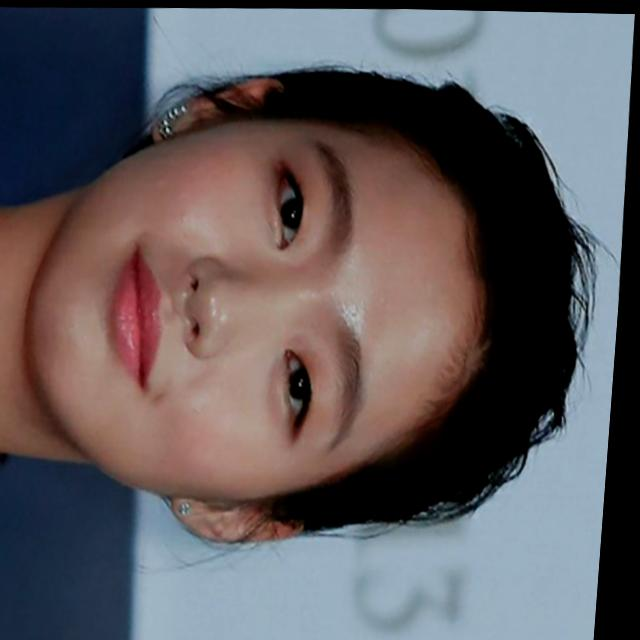face: (16, 97, 486, 525)
